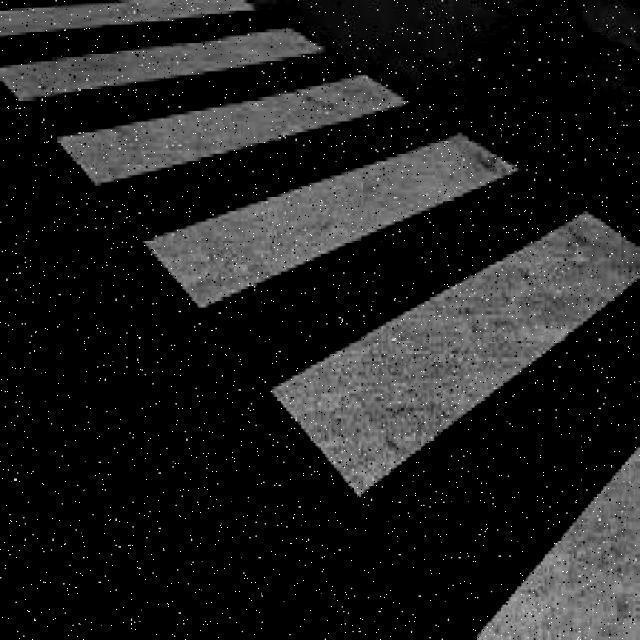crosswalk: (3, 0, 640, 638)
